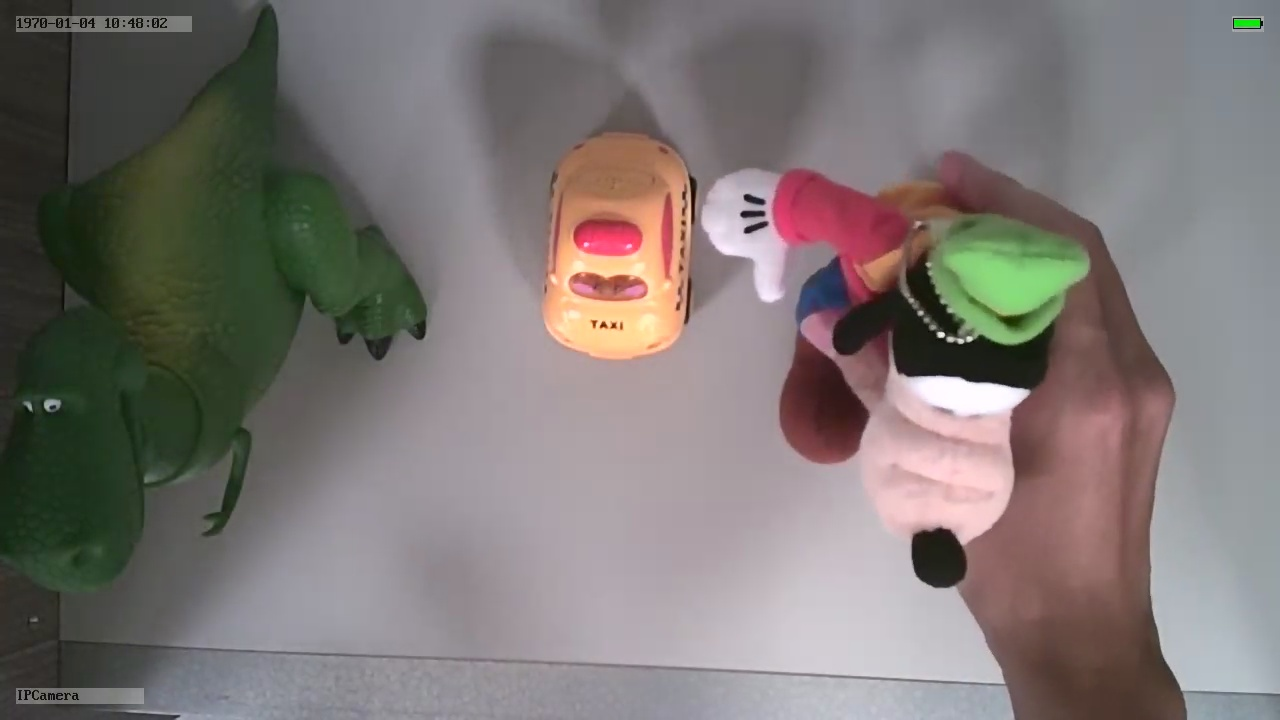car: (537, 123, 701, 363)
rex: (1, 92, 427, 599)
